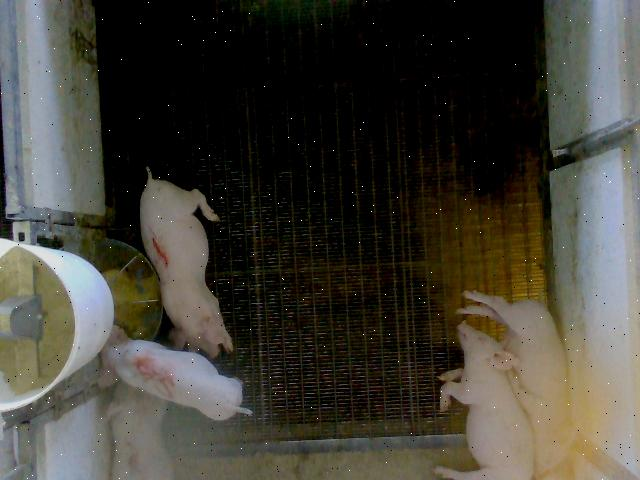pig-1: (140, 168, 232, 358)
pig-3: (108, 381, 174, 478)
pig-5: (101, 327, 251, 419)
